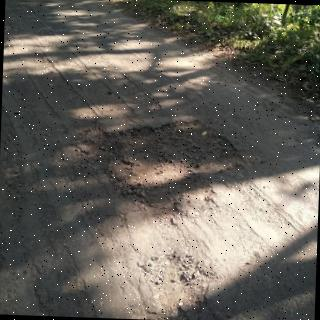pothole: (50, 118, 263, 228), (145, 253, 217, 320)
